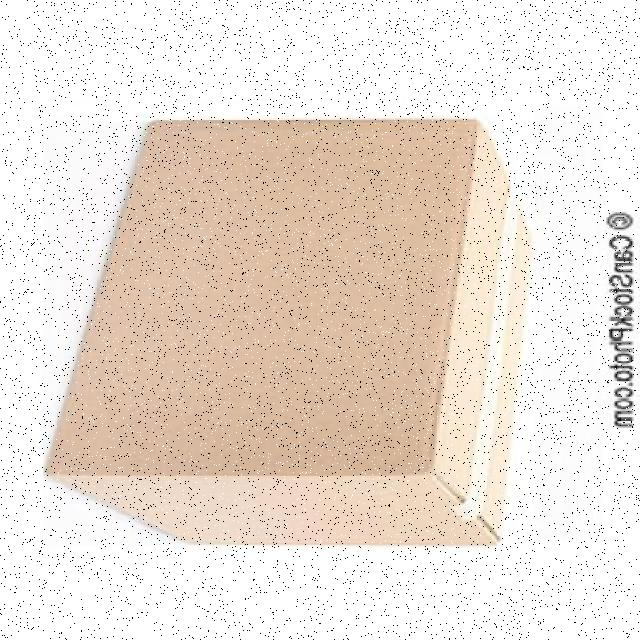normal: (43, 105, 535, 552)
